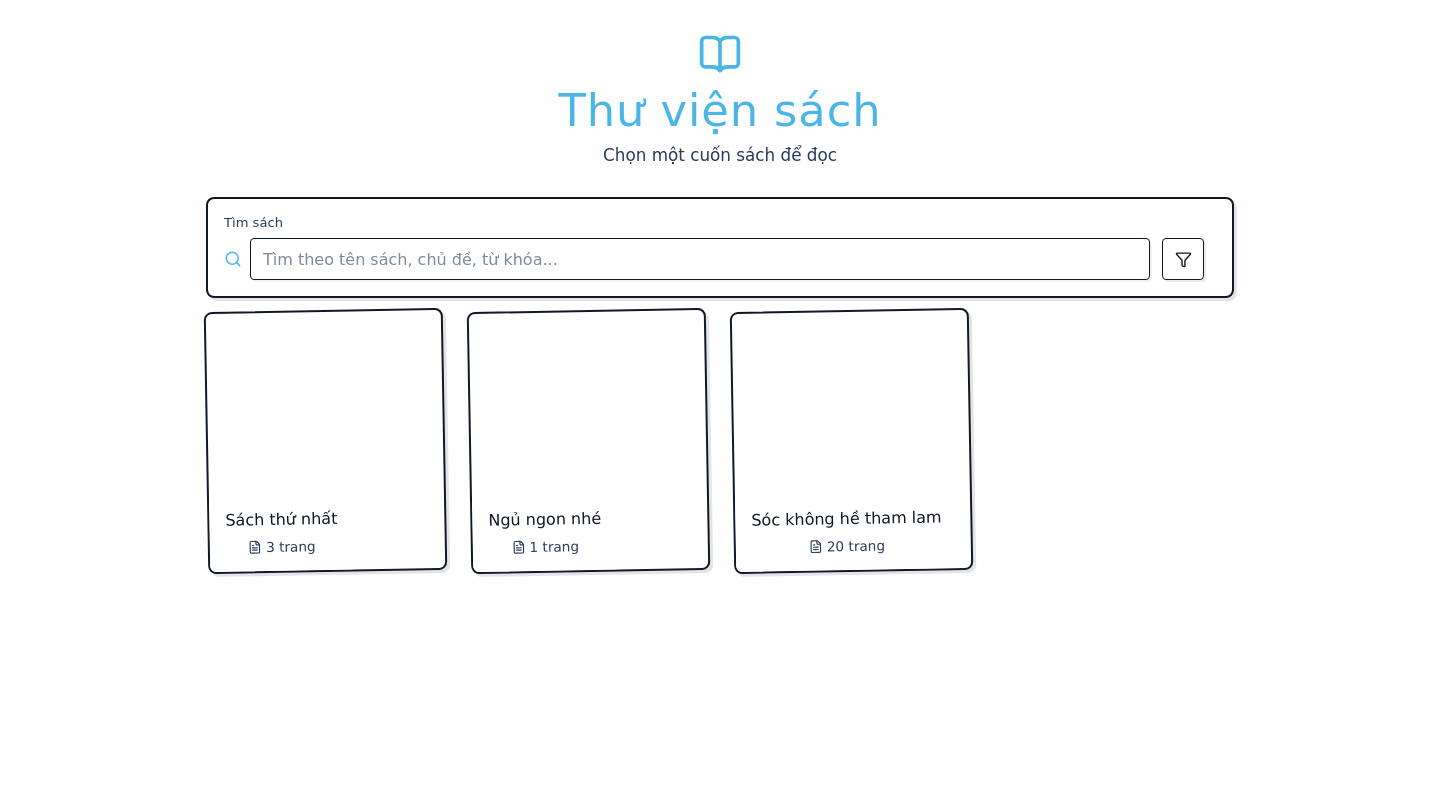
Test: BookListPage › clears the query and restores every book
Type "chia sẻ" into the search field labelled "Tìm sách" at (700, 259), box [250,238,1150,280]
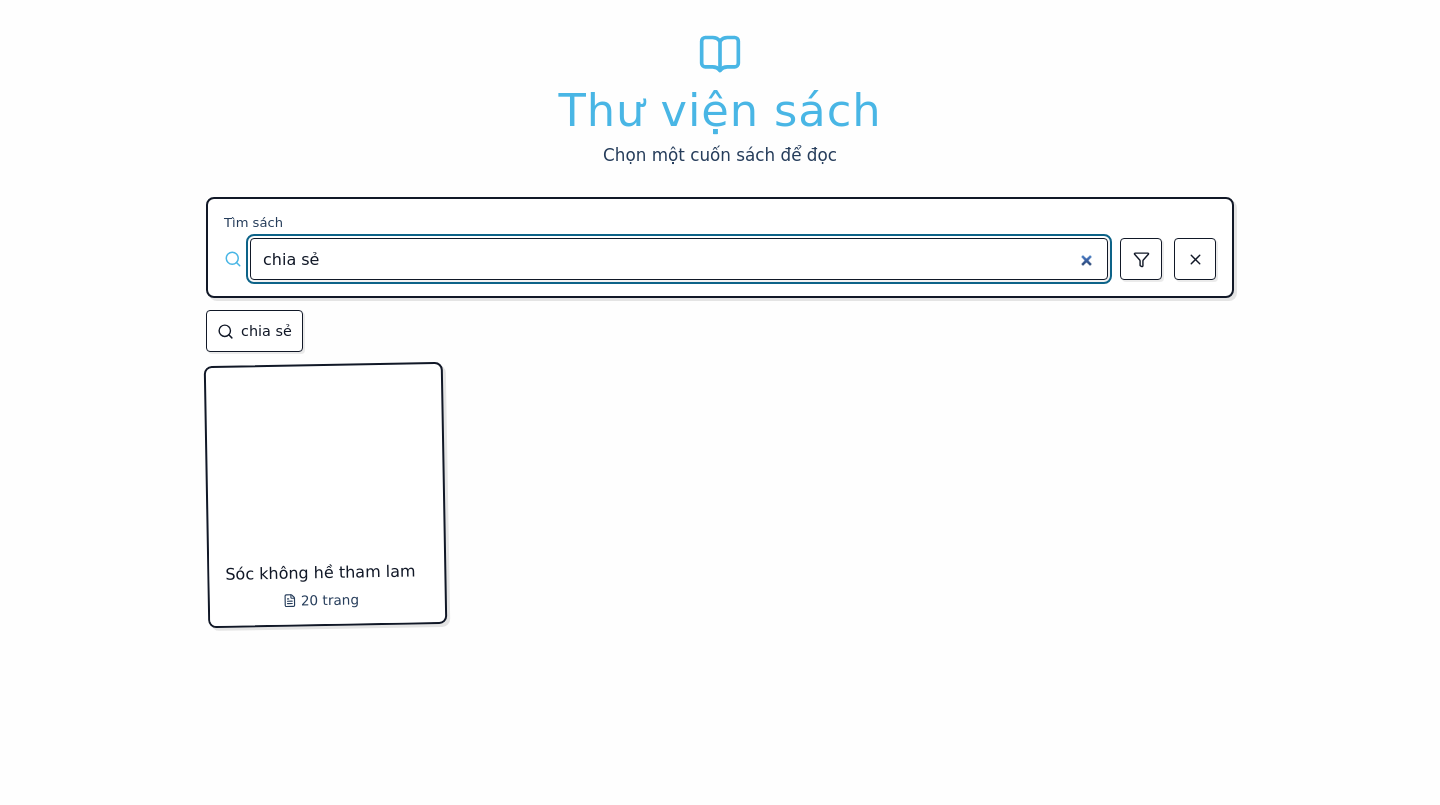
Click the button named "Mở bộ lọc" at (1141, 259), box [1120,238,1162,280]
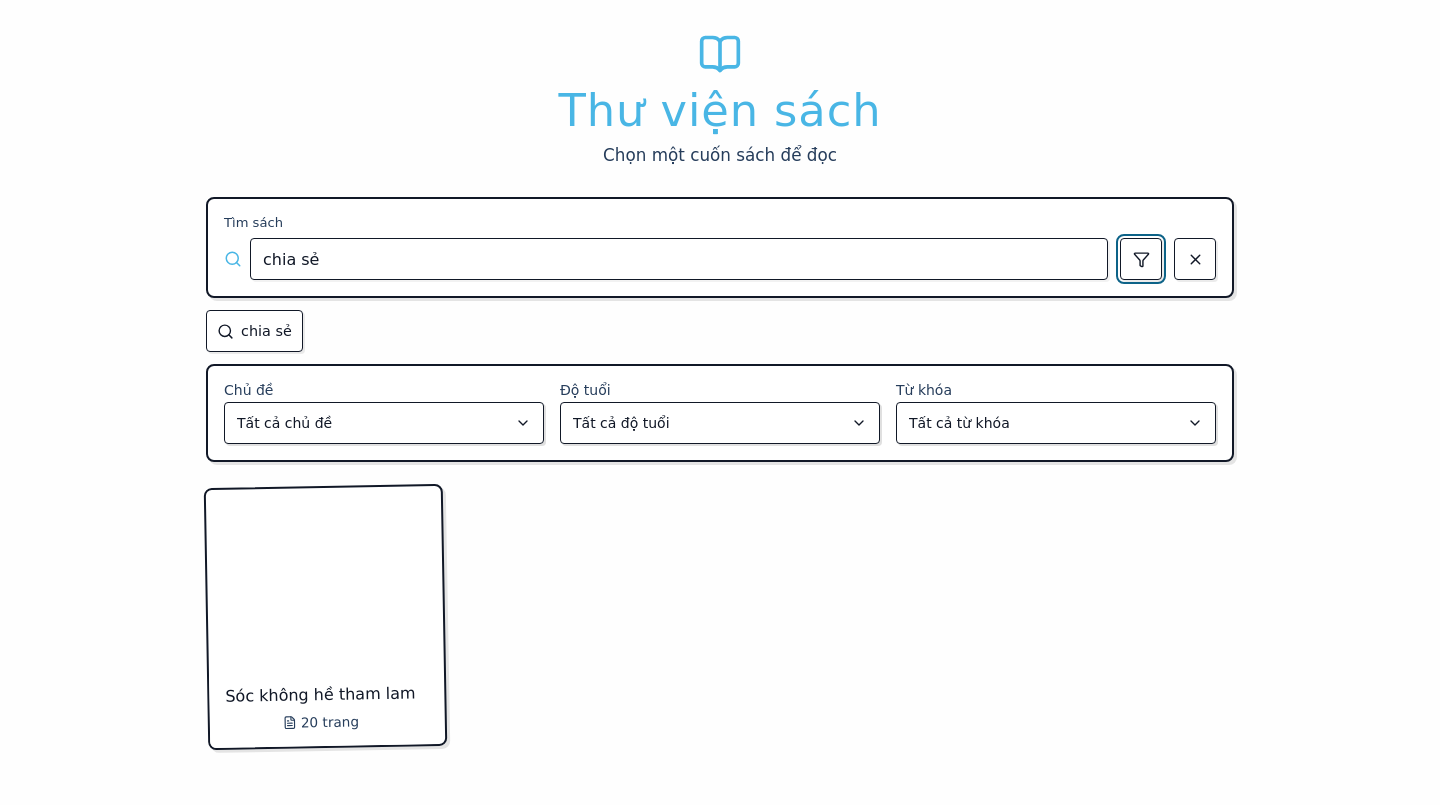
Click the button "Tất cả chủ đề" at (285, 423), box [224,402,544,444]
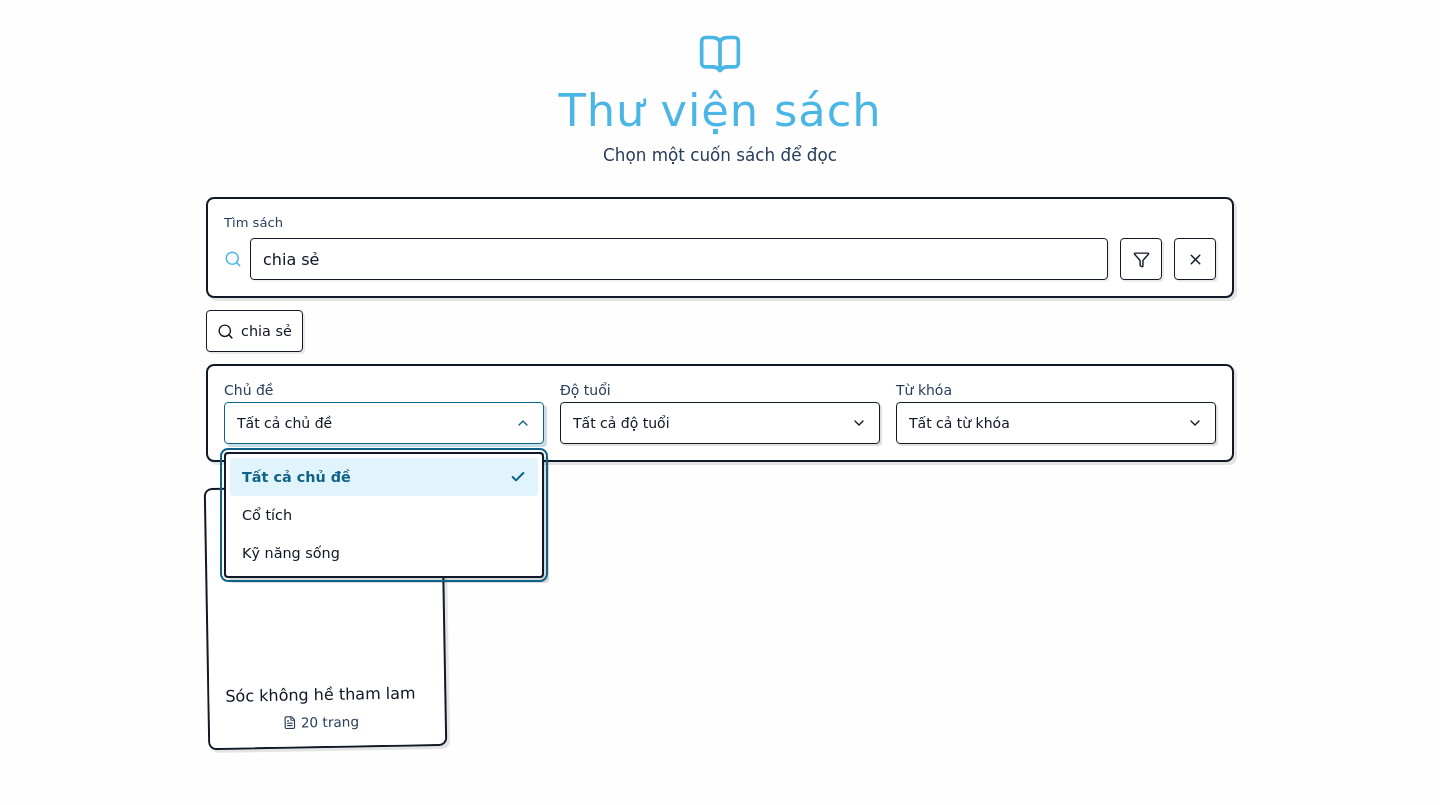
Click the option "Kỹ năng sống" at (291, 553), box [230,534,538,572]
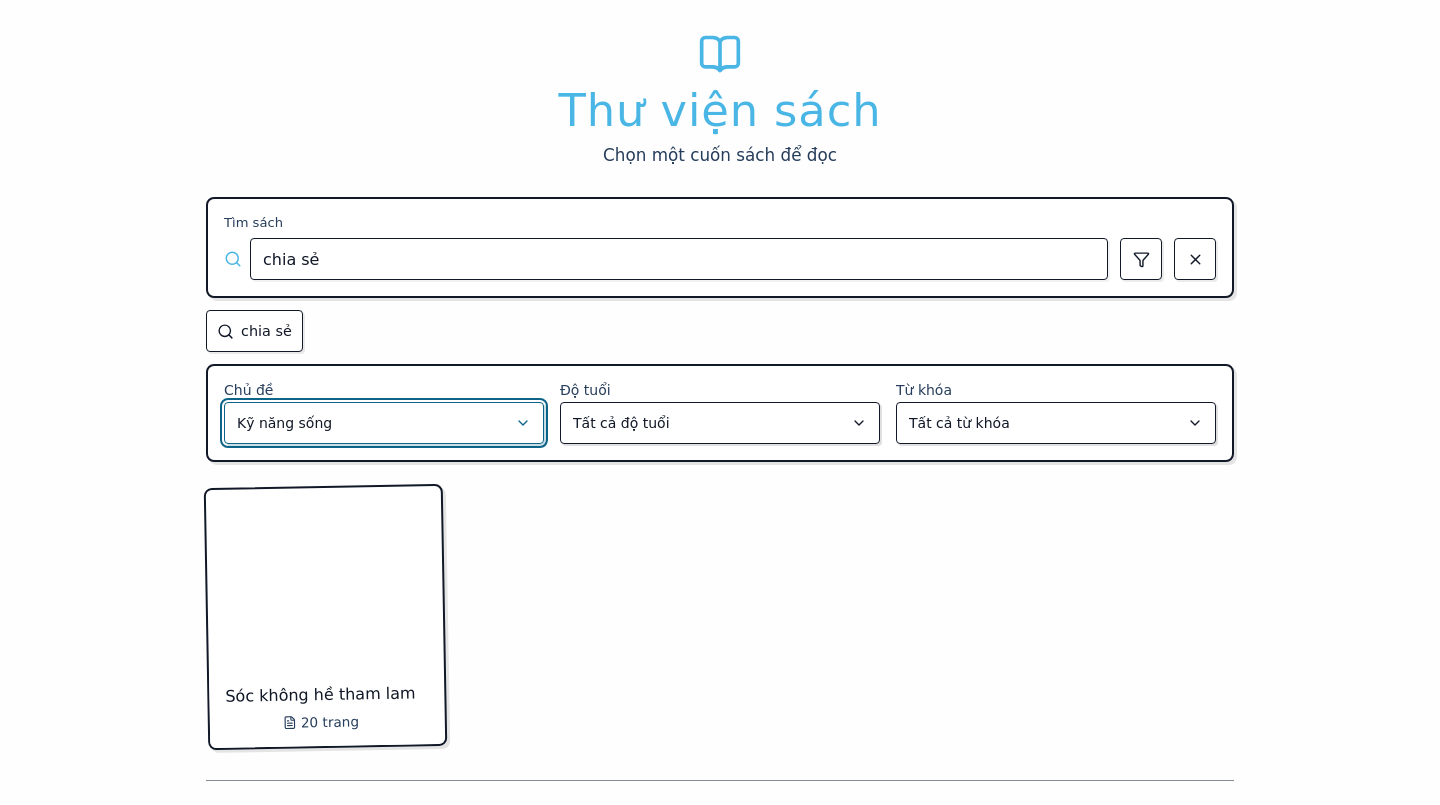
Click the button named "Xóa tìm kiếm và bộ lọc" at (1195, 259), box [1174,238,1216,280]
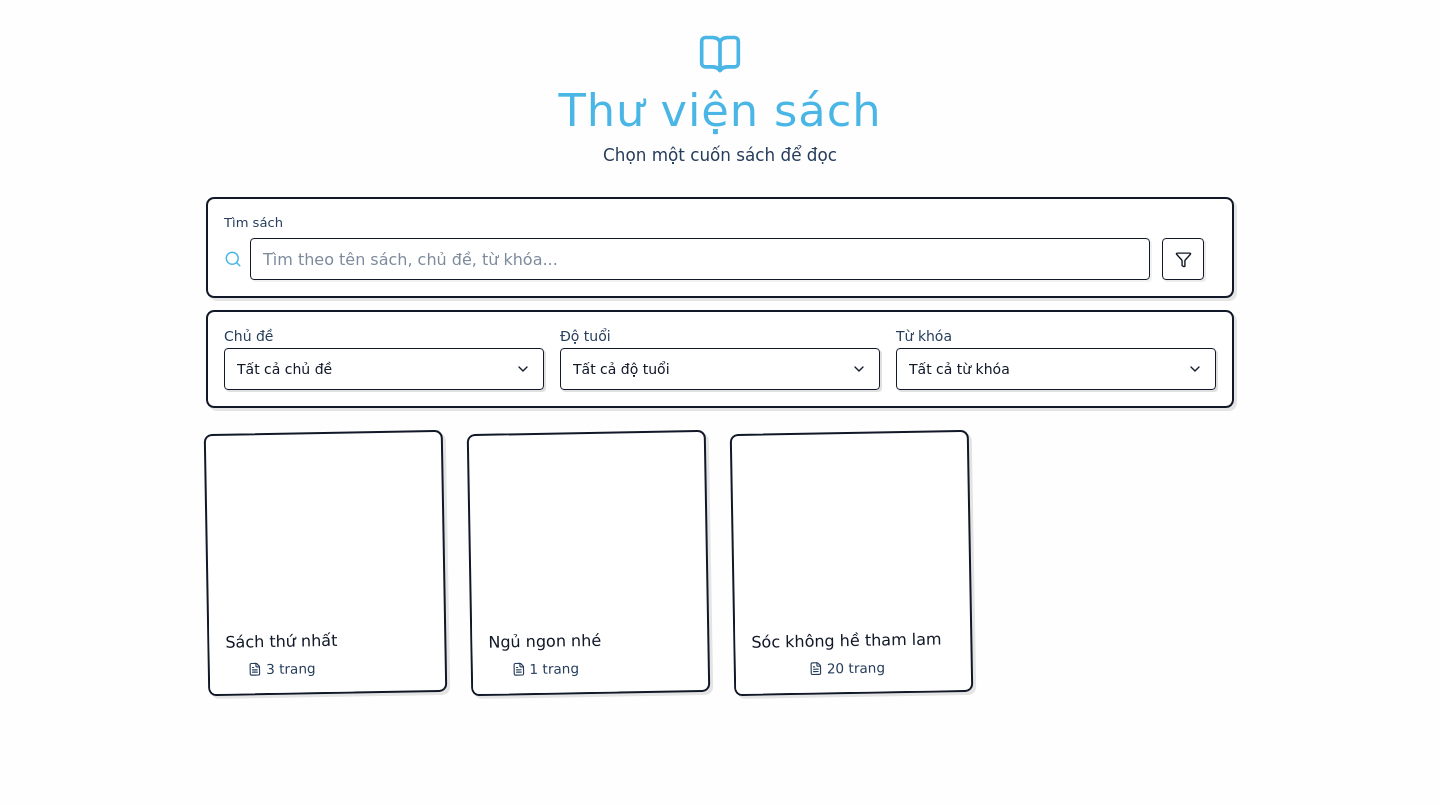
Expected: the search field labelled "Tìm sách" is empty, [250,238,1150,280]
Expected: the text "Sách thứ nhất" is shown, [225,630,338,653]
Expected: the text "Ngủ ngon nhé" is shown, [488,630,601,653]
